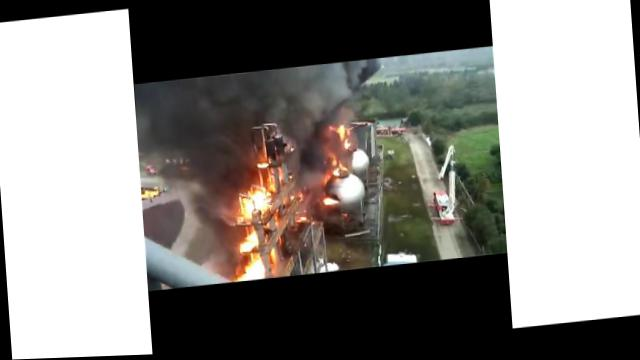fire: (238, 260, 266, 286), (254, 187, 270, 212), (244, 198, 255, 222), (338, 123, 348, 144), (323, 197, 339, 207), (240, 242, 252, 255), (249, 232, 258, 249), (258, 163, 270, 170), (333, 169, 340, 180), (297, 217, 308, 223)
